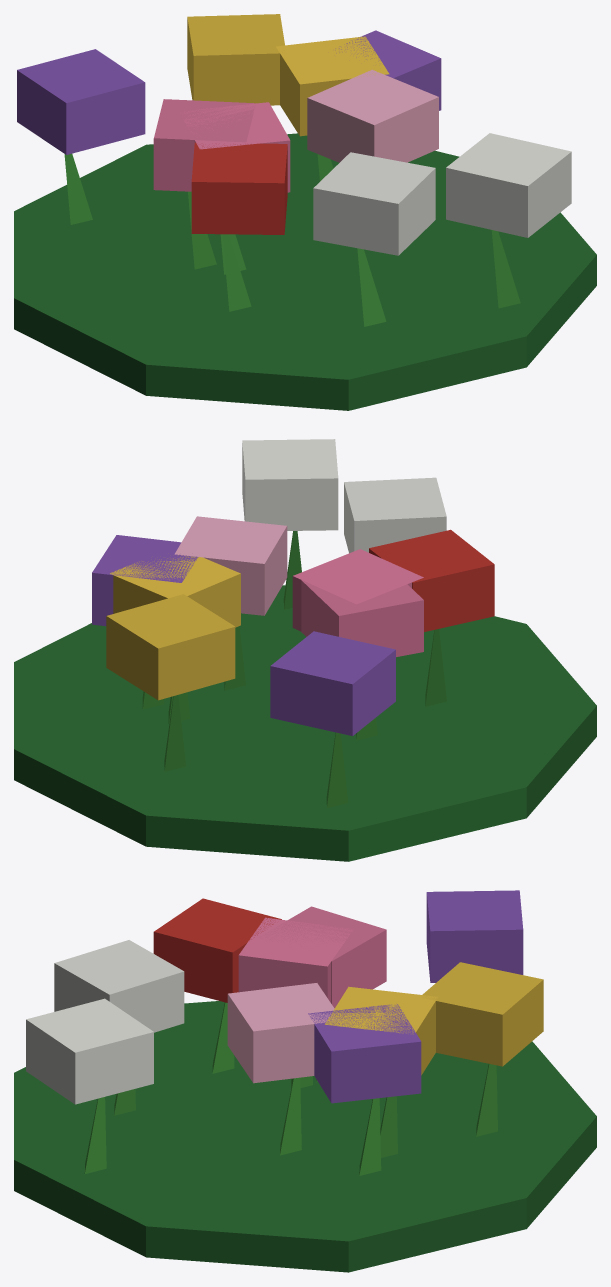
The model's file is Scatter_FlowerPatch.fbx.
3 views of the same model, one above another, from view 1: azimuth 30°, elevation 25°; view 2: azimuth 150°, elevation 25°; view 3: azimuth 270°, elevation 25° (orthographic).
Parts seen in each view (by area): view 1: FlowerPatch; view 2: FlowerPatch; view 3: FlowerPatch.
Part boxes in pixels (left/top/right/bottom): FlowerPatch: left=14, top=14, right=596, bottom=410; FlowerPatch: left=14, top=439, right=596, bottom=861; FlowerPatch: left=14, top=890, right=596, bottom=1272.
Bounding box in the file's own units: 4.14 × 1.35 × 4.07.
